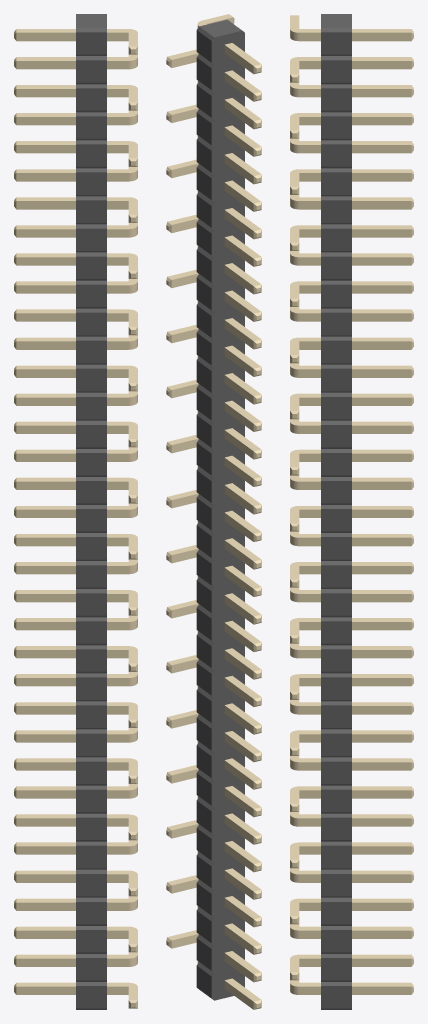
The model's file is PinHeader_1x35_P1.00mm_Vertical_SMD_Pin1Right.glb.
3 views of the same model, side by side, from view 1: azimuth 90°, elevation 25°; view 2: azimuth 210°, elevation 25°; view 3: azimuth 270°, elevation 25° (orthographic).
Parts seen in each view (by area): view 1: Shape_IndexedFaceSet.067, Shape_IndexedFaceSet.073, Shape_IndexedFaceSet.079, Shape_IndexedFaceSet.181, Shape_IndexedFaceSet.007, Shape_IndexedFaceSet.013, Shape_IndexedFaceSet.019, Shape_IndexedFaceSet.025, Shape_IndexedFaceSet.031, Shape_IndexedFaceSet.037, Shape_IndexedFaceSet.043, Shape_IndexedFaceSet.049 (+59 smaller); view 2: Shape_IndexedFaceSet.004, Shape_IndexedFaceSet.001, Shape_IndexedFaceSet.016, Shape_IndexedFaceSet.028, Shape_IndexedFaceSet.088, Shape_IndexedFaceSet.094, Shape_IndexedFaceSet.178, Shape_IndexedFaceSet.190, Shape_IndexedFaceSet.002, Shape_IndexedFaceSet.010, Shape_IndexedFaceSet.040, Shape_IndexedFaceSet.052 (+60 smaller); view 3: Shape_IndexedFaceSet.064, Shape_IndexedFaceSet.070, Shape_IndexedFaceSet.076, Shape_IndexedFaceSet.178, Shape_IndexedFaceSet.002, Shape_IndexedFaceSet.010, Shape_IndexedFaceSet.016, Shape_IndexedFaceSet.022, Shape_IndexedFaceSet.028, Shape_IndexedFaceSet.034, Shape_IndexedFaceSet.040, Shape_IndexedFaceSet.046 (+59 smaller).
Part boxes in pixels (left/top/right/bottom): Shape_IndexedFaceSet.067: left=76, top=312, right=106, bottom=335; Shape_IndexedFaceSet.073: left=76, top=340, right=106, bottom=363; Shape_IndexedFaceSet.079: left=76, top=368, right=106, bottom=391; Shape_IndexedFaceSet.181: left=76, top=845, right=106, bottom=868; Shape_IndexedFaceSet.007: left=76, top=32, right=106, bottom=54; Shape_IndexedFaceSet.013: left=76, top=60, right=106, bottom=82; Shape_IndexedFaceSet.019: left=76, top=88, right=106, bottom=110; Shape_IndexedFaceSet.025: left=76, top=116, right=106, bottom=138; Shape_IndexedFaceSet.031: left=76, top=144, right=106, bottom=166; Shape_IndexedFaceSet.037: left=76, top=172, right=106, bottom=194; Shape_IndexedFaceSet.043: left=76, top=200, right=106, bottom=222; Shape_IndexedFaceSet.049: left=76, top=228, right=106, bottom=250; Shape_IndexedFaceSet.004: left=211, top=30, right=244, bottom=1000; Shape_IndexedFaceSet.001: left=199, top=19, right=241, bottom=37; Shape_IndexedFaceSet.016: left=196, top=85, right=211, bottom=117; Shape_IndexedFaceSet.028: left=196, top=140, right=211, bottom=172; Shape_IndexedFaceSet.088: left=196, top=415, right=211, bottom=447; Shape_IndexedFaceSet.094: left=196, top=443, right=211, bottom=475; Shape_IndexedFaceSet.178: left=196, top=828, right=211, bottom=860; Shape_IndexedFaceSet.190: left=196, top=883, right=211, bottom=915; Shape_IndexedFaceSet.002: left=196, top=30, right=211, bottom=62; Shape_IndexedFaceSet.010: left=196, top=58, right=211, bottom=89; Shape_IndexedFaceSet.040: left=196, top=195, right=211, bottom=227; Shape_IndexedFaceSet.052: left=196, top=250, right=211, bottom=282; Shape_IndexedFaceSet.064: left=321, top=312, right=351, bottom=335; Shape_IndexedFaceSet.070: left=321, top=340, right=351, bottom=363; Shape_IndexedFaceSet.076: left=321, top=368, right=351, bottom=391; Shape_IndexedFaceSet.178: left=321, top=845, right=351, bottom=868; Shape_IndexedFaceSet.002: left=321, top=32, right=351, bottom=54; Shape_IndexedFaceSet.010: left=321, top=60, right=351, bottom=82; Shape_IndexedFaceSet.016: left=321, top=88, right=351, bottom=110; Shape_IndexedFaceSet.022: left=321, top=116, right=351, bottom=138; Shape_IndexedFaceSet.028: left=321, top=144, right=351, bottom=166; Shape_IndexedFaceSet.034: left=321, top=172, right=351, bottom=194; Shape_IndexedFaceSet.040: left=321, top=200, right=351, bottom=222; Shape_IndexedFaceSet.046: left=321, top=228, right=351, bottom=250.
Bounding box in the file's own units: 0.984 × 13.78 × 1.58.
